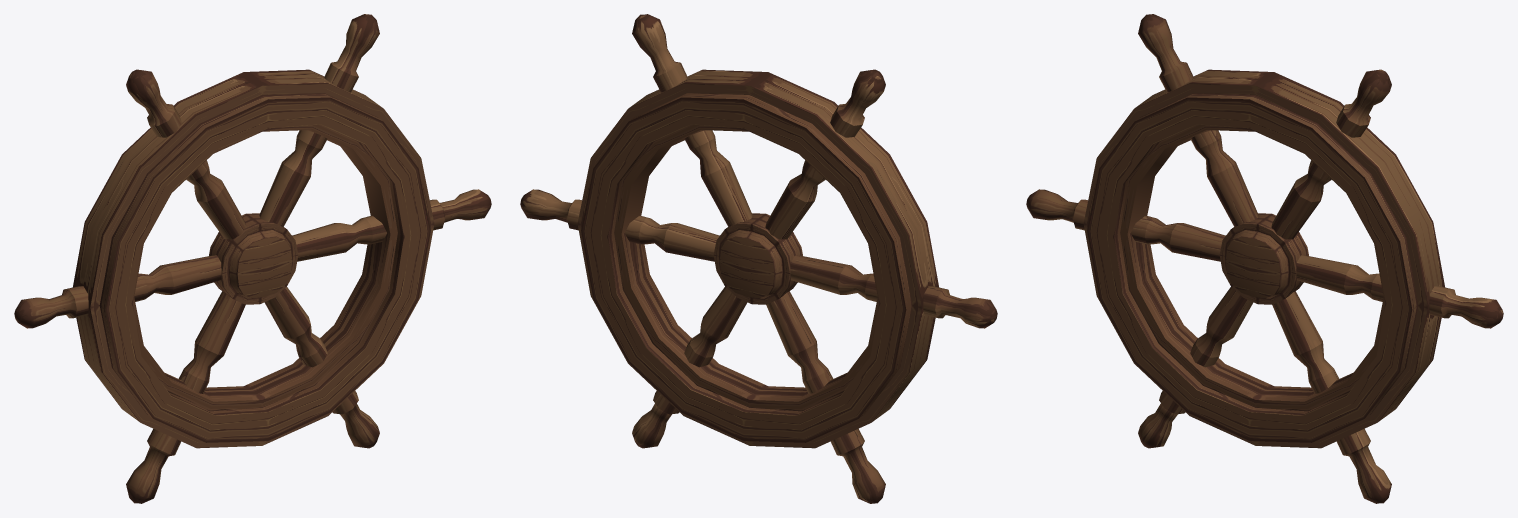
File: SM_PROP_steeringwheel_interior.fbx
The picture shows the model from 3 angles, left to right: view 1: azimuth 30°, elevation 25°; view 2: azimuth 150°, elevation 25°; view 3: azimuth 330°, elevation 25°; orthographic projection.
Visible parts, largest first — view 1: SM_PROP_steeringwheel_interior; view 2: SM_PROP_steeringwheel_interior; view 3: SM_PROP_steeringwheel_interior.
Boxes of the visible parts, bbox=[...] form: SM_PROP_steeringwheel_interior: bbox=[14, 14, 491, 503]; SM_PROP_steeringwheel_interior: bbox=[520, 14, 997, 503]; SM_PROP_steeringwheel_interior: bbox=[1026, 14, 1503, 503].
Size of the model in its own units: 199 by 173 by 22.24.
